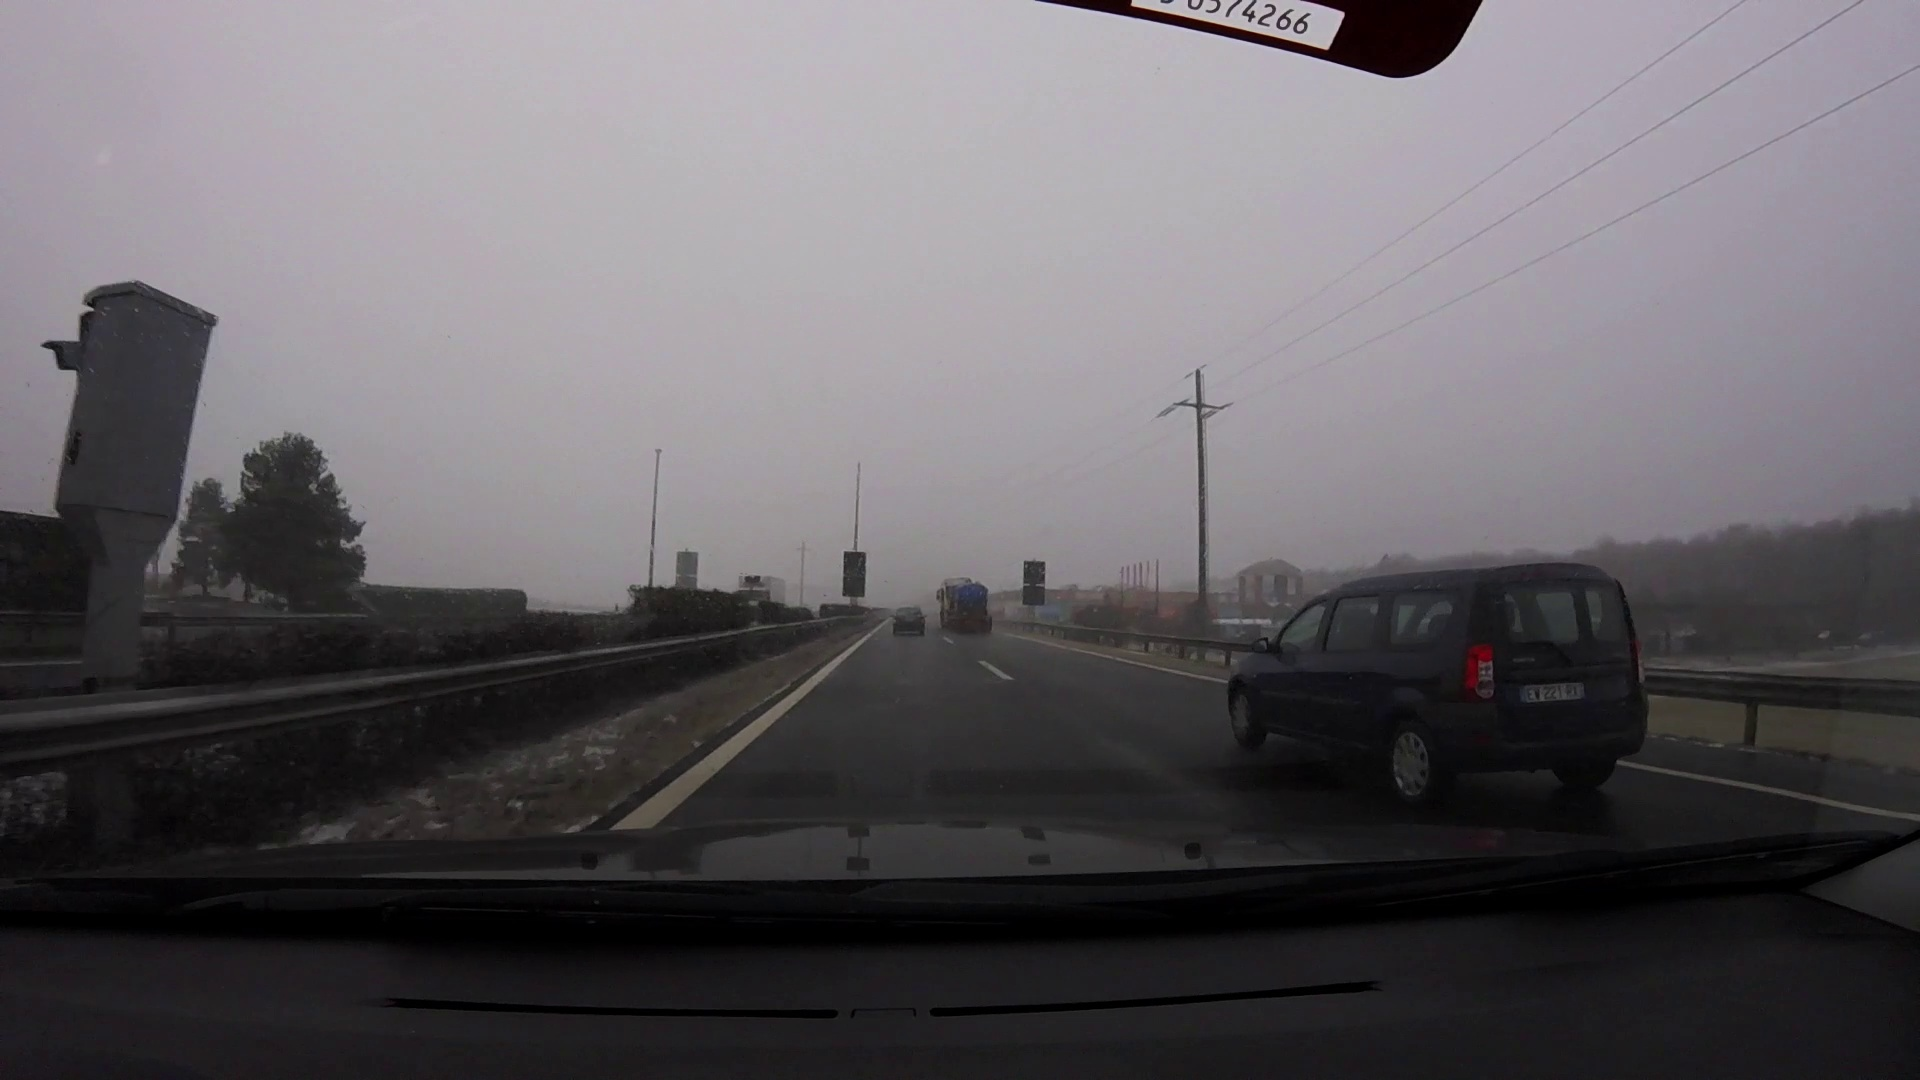radar: (41, 280, 223, 576)
